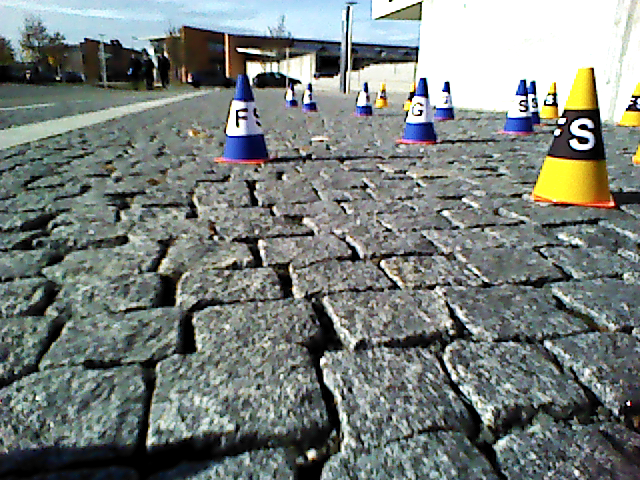bluecone: (223, 74, 269, 160), (403, 78, 436, 140), (503, 80, 534, 132), (434, 82, 455, 117), (529, 82, 542, 123)
yellowcone: (540, 69, 609, 202), (619, 82, 640, 125), (541, 82, 559, 116)
